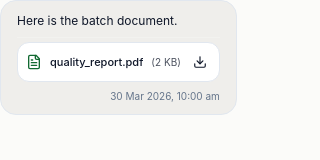
Test: MessageBubble › displays error message if download fails
Click the button named "Download quality_report.pdf" at (200, 62), box [189,50,211,72]
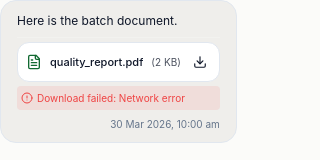
Now the text "Download failed: Network error" is shown, box [37,90,185,106]
